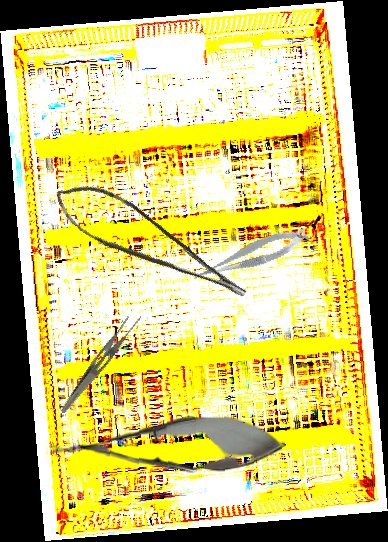Dressing Forceps: (60, 307, 143, 422)
Micro Scissor: (45, 163, 252, 331), (48, 411, 287, 481), (187, 224, 313, 285)
